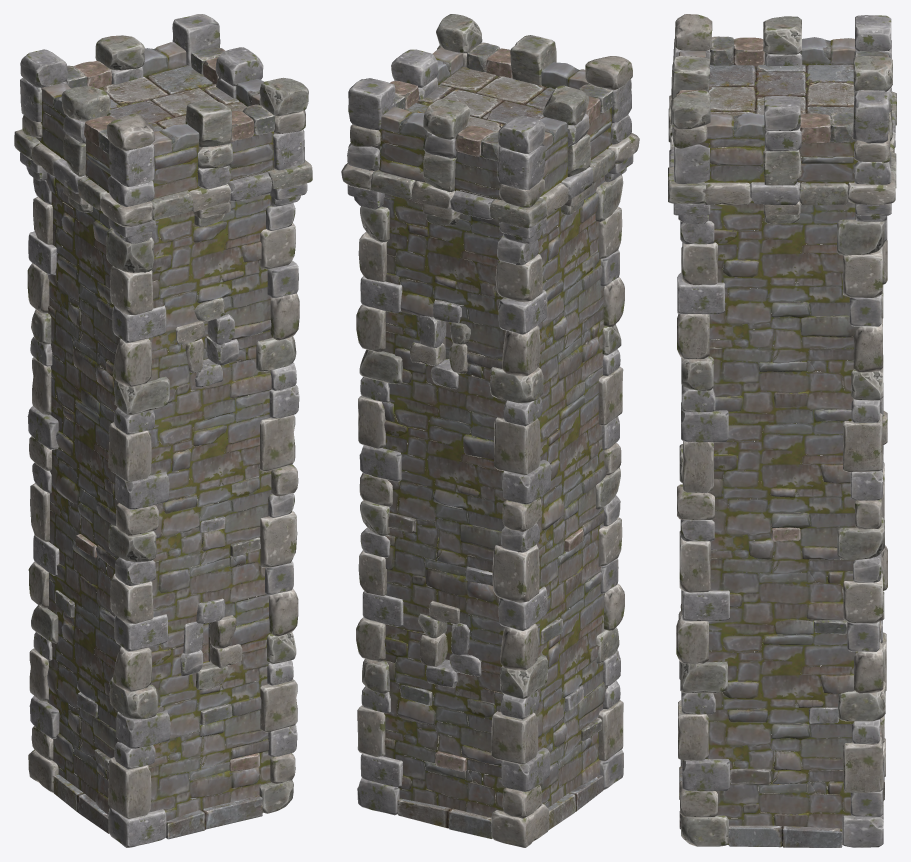
3 views of the same model, side by side, from view 1: azimuth 30°, elevation 25°; view 2: azimuth 150°, elevation 25°; view 3: azimuth 270°, elevation 25° (orthographic). The views are drawn at different scales.
Visible parts, largest first — view 1: SM_Castle_Tower_4x12_01_v1_LOD0; view 2: SM_Castle_Tower_4x12_01_v1_LOD0; view 3: SM_Castle_Tower_4x12_01_v1_LOD0.
Boxes of the visible parts, box(x1,y1,x2,y2) form: SM_Castle_Tower_4x12_01_v1_LOD0: box(14, 14, 312, 847); SM_Castle_Tower_4x12_01_v1_LOD0: box(341, 14, 639, 847); SM_Castle_Tower_4x12_01_v1_LOD0: box(668, 14, 896, 847).
Bounding box in the file's own units: 3.92 × 14.15 × 3.93.
Materials: 5 (5 with a texture image).
